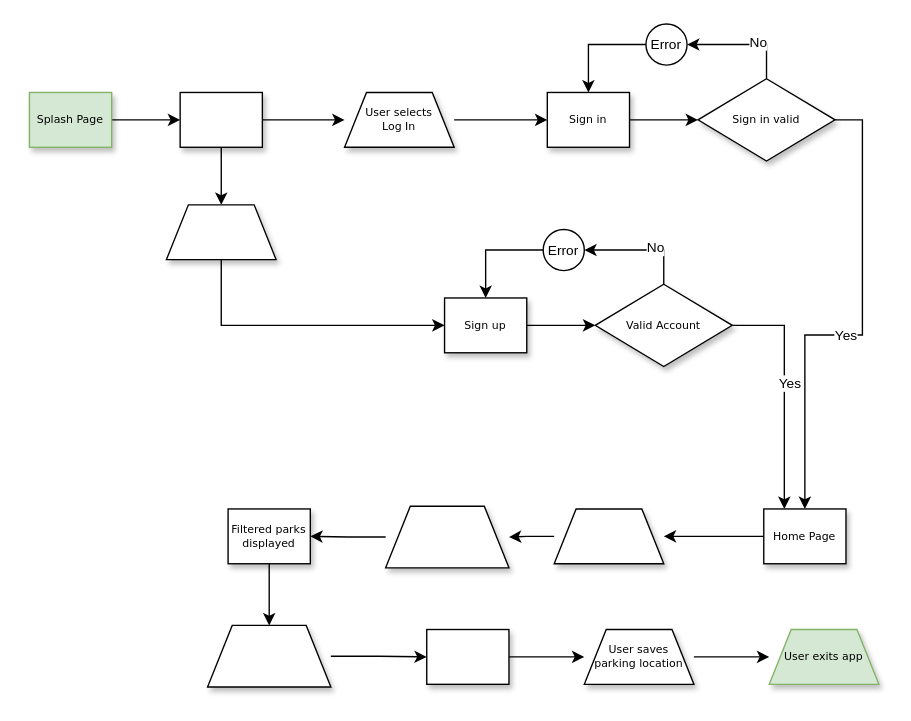
The diagram is 911 pixels wide and 721 high, and some of its shapes have lost their labels. The centre of each missing label's shape, as x and y in pixels:
"Log In/Sign Up Page" goes at pixel 222 121.
"Navigate user to the park" goes at pixel 468 658.
"User filters by duration, type, or price" goes at pixel 448 538.
"User selects park" goes at pixel 270 658.
"User selects search option" goes at pixel 609 537.
"User selects Sign Up" goes at pixel 222 233.
